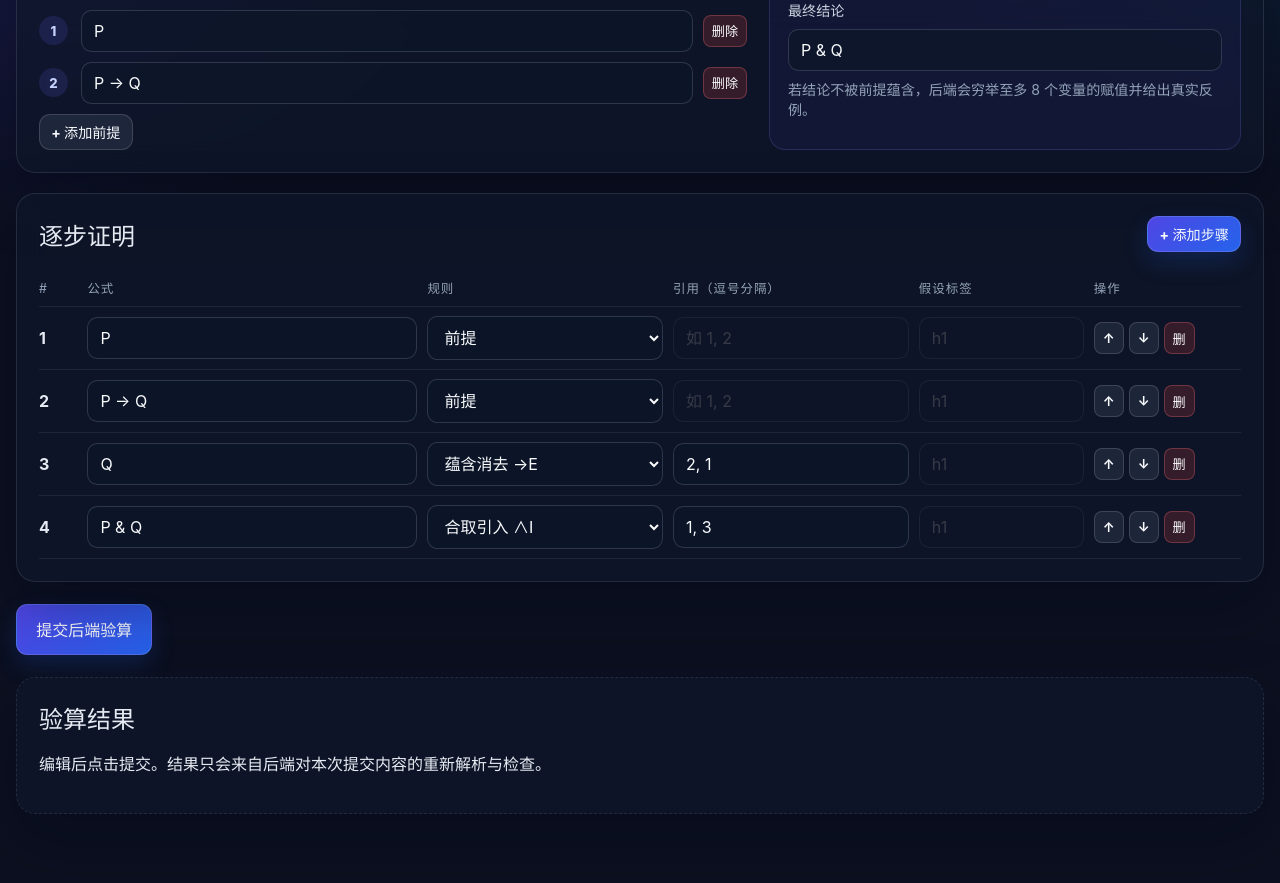
React 编辑与后端结果归属 › 页面编辑后旧结果明确标记为不属于当前内容，再次验算才归属新内容
The width and height of the screenshot is (1280, 883).
(page scrolled)
Step 1. Click the button "提交后端验算" → x=84, y=629, box [16,604,152,655]
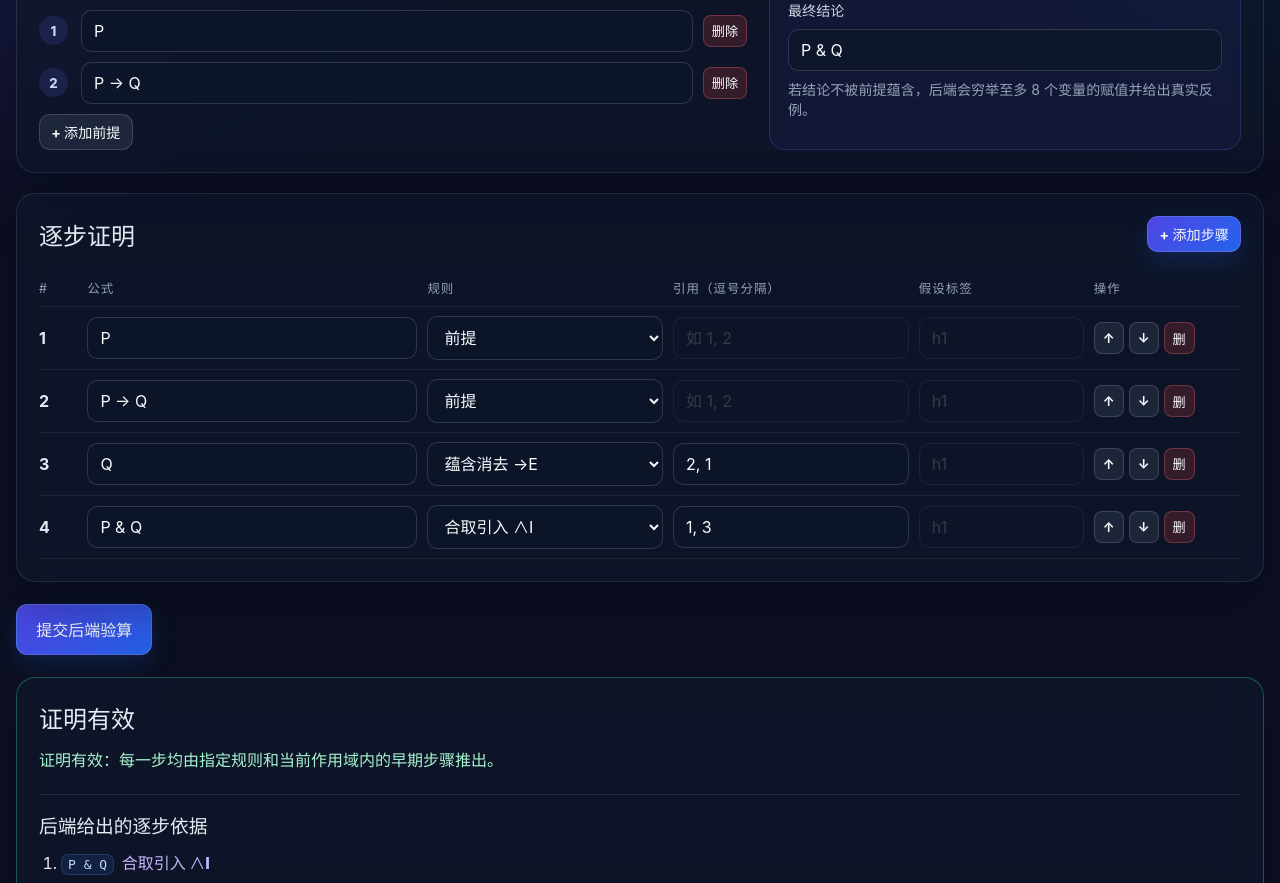
Expected: the heading "证明有效" is shown, [39,705,135,734]
Step 2. Replace the text in the field labelled "最终结论" with "R" → x=1005, y=50, box [788,29,1222,71]
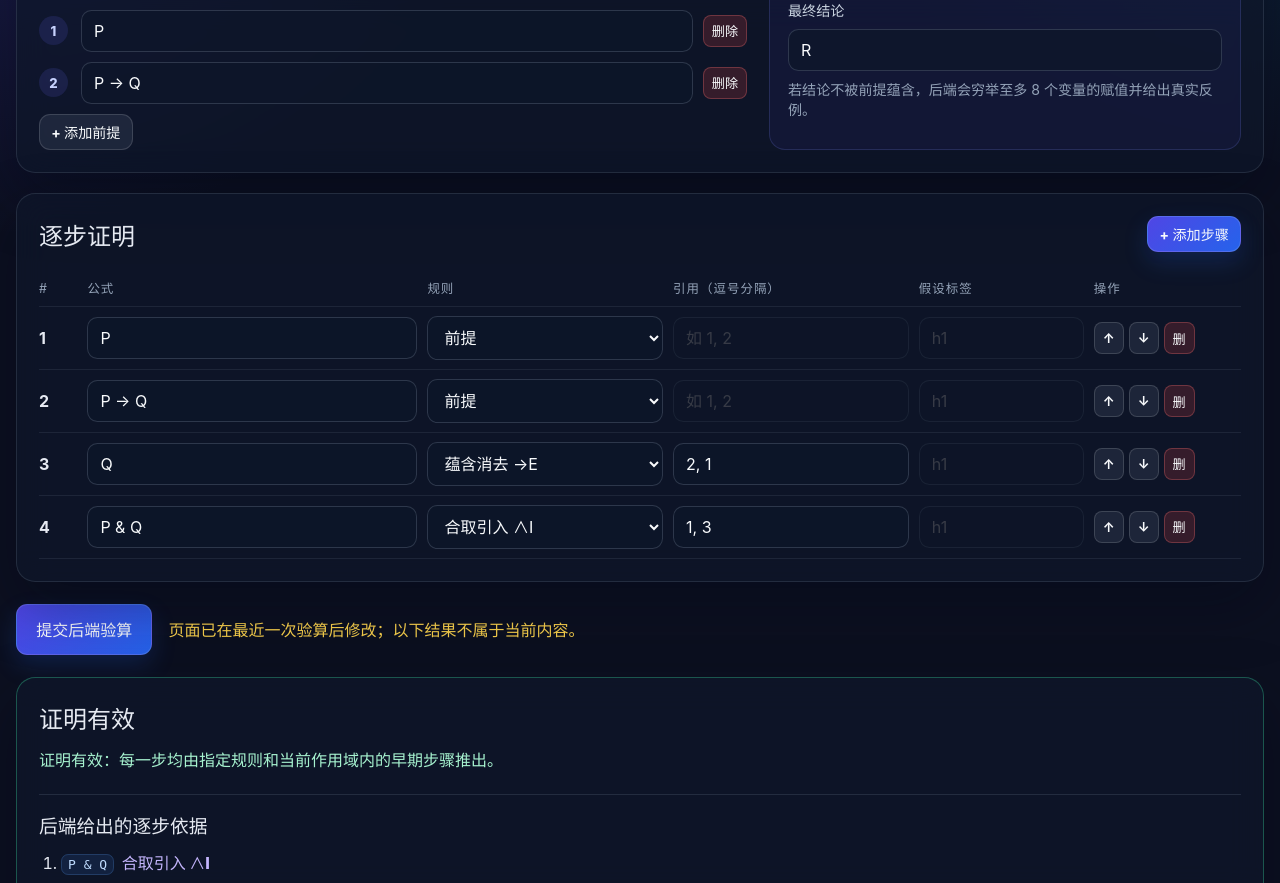
Expected: the message shows "以下结果不属于当前内容", [168,620,584,640]
Step 3. Click the button "提交后端验算" → x=84, y=629, box [16,604,152,655]
(page scrolled)
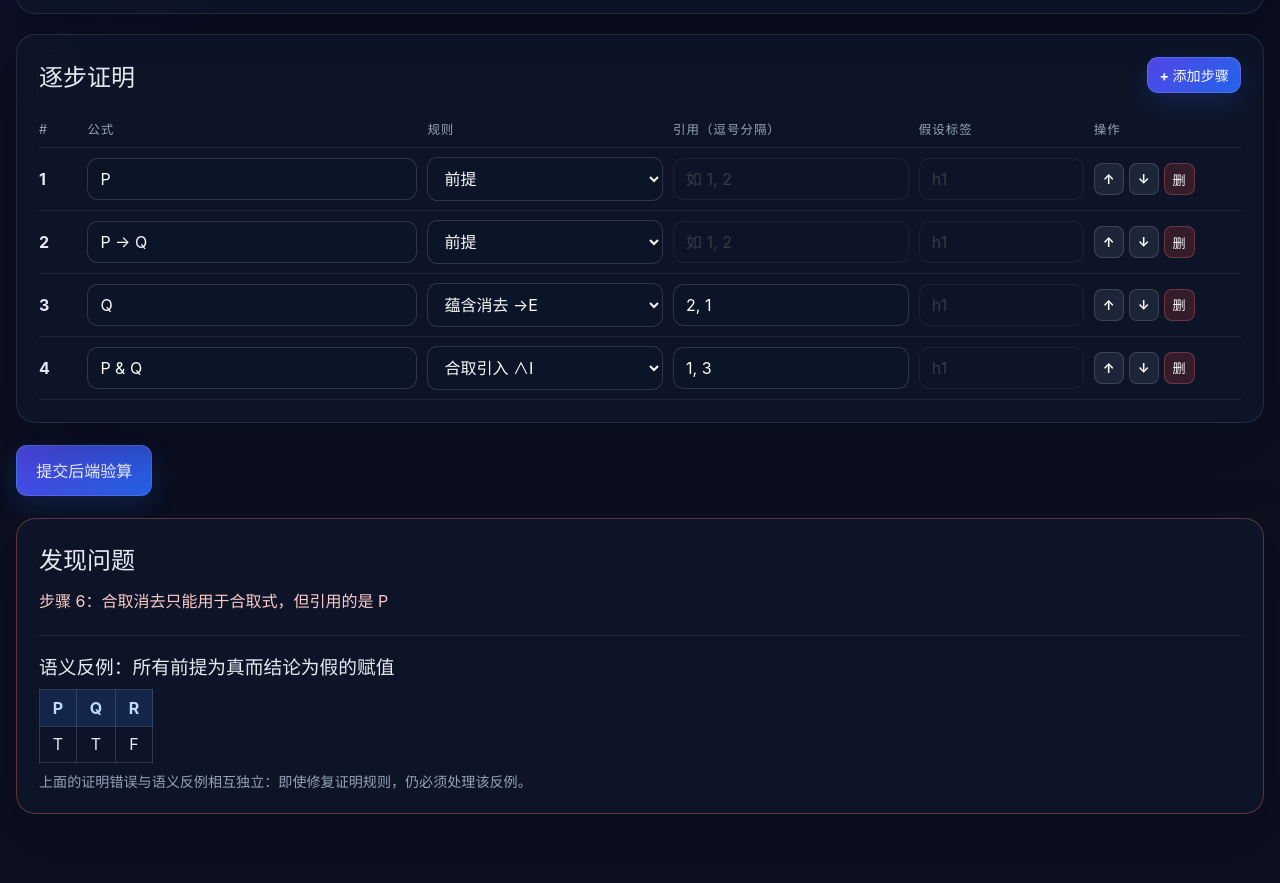
Expected: the heading "发现问题" is shown, [39,546,135,575]
Expected: the text "步骤 6：合取消去只能用于合取式，但引用的是 P" is shown, [39,591,388,611]
Expected: the heading "语义反例：所有前提为真而结论为假的赋值" is shown, [39,656,394,679]
